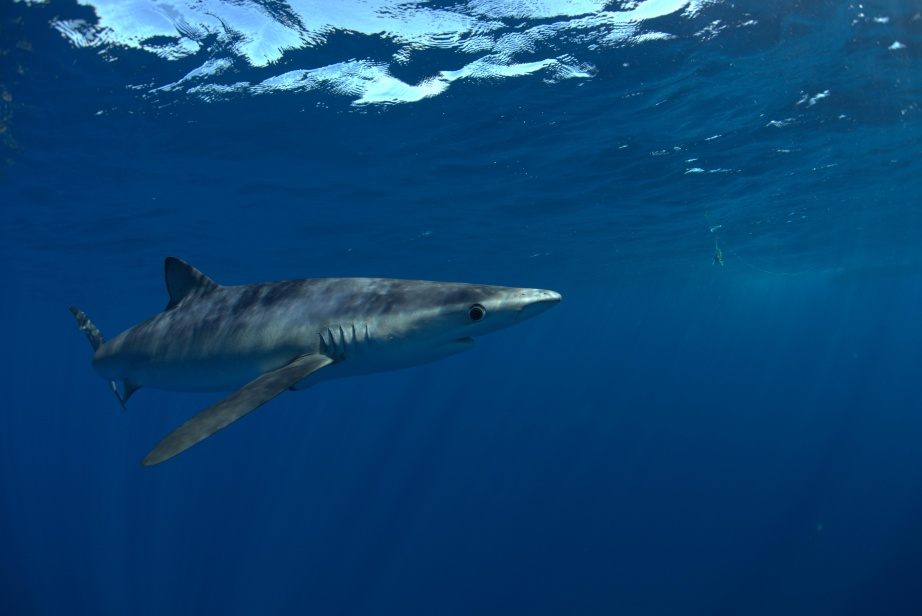Azul: (40, 214, 597, 477)
